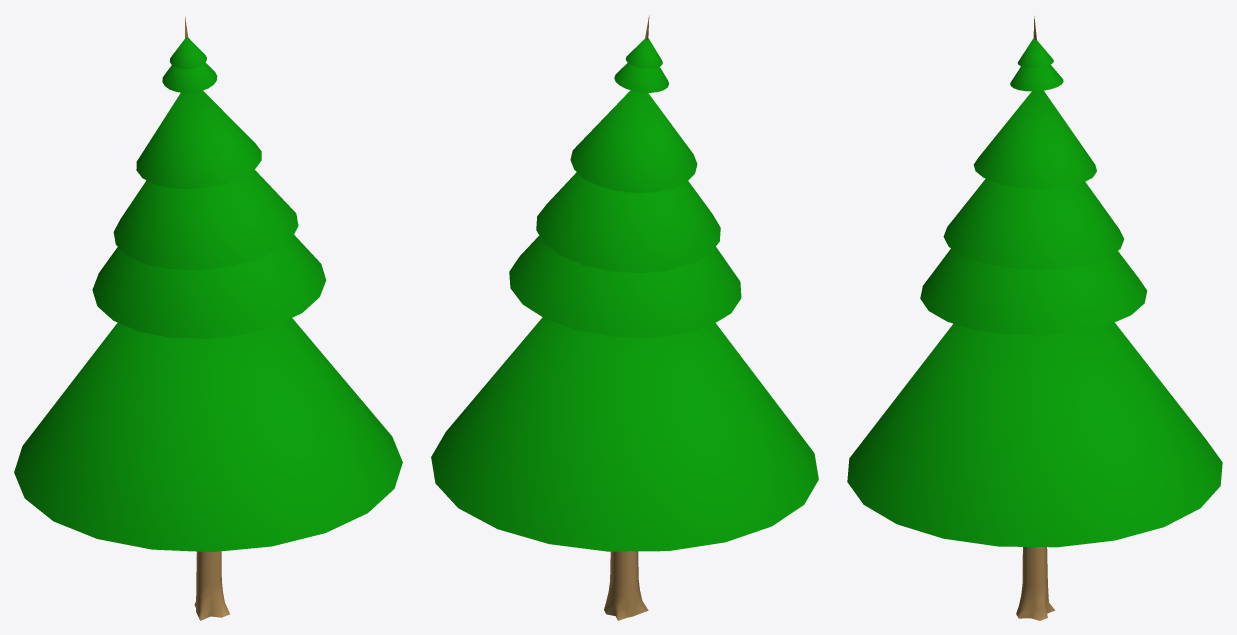
Rendered from back_ground_pine07.fbx.
The picture shows the model from 3 angles, left to right: view 1: azimuth 30°, elevation 25°; view 2: azimuth 150°, elevation 25°; view 3: azimuth 270°, elevation 25°; orthographic projection. The views are drawn at different scales.
Parts seen in each view (by area): view 1: back_ground_pine07_trunk; view 2: back_ground_pine07_trunk; view 3: back_ground_pine07_trunk.
Part boxes in pixels (x1,y1,x2,y2): back_ground_pine07_trunk: (14, 16, 402, 620); back_ground_pine07_trunk: (431, 15, 818, 620); back_ground_pine07_trunk: (847, 16, 1222, 620).
Bounding box in the file's own units: 1838 × 3172 × 1839.
